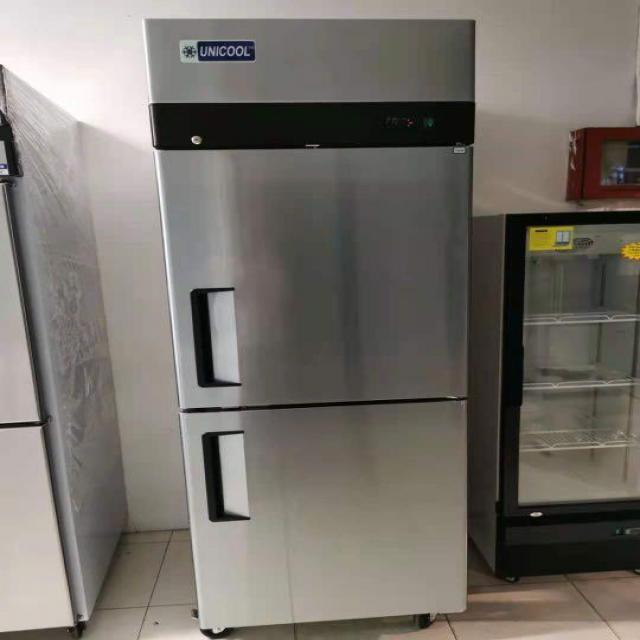refrigerator: (141, 15, 477, 635)
